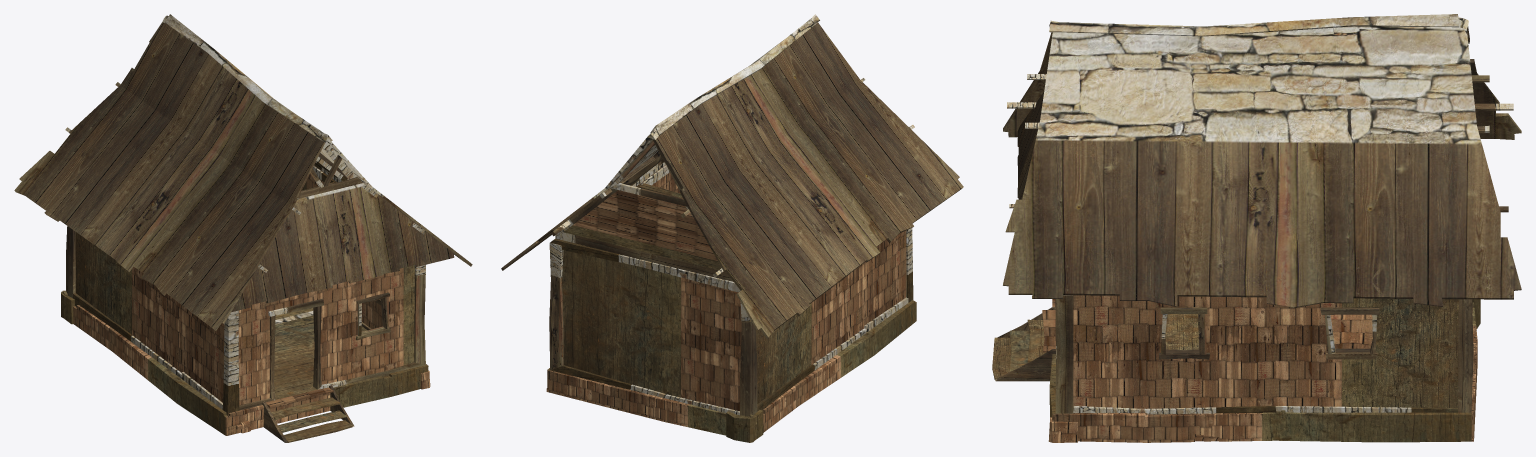
Rendered from cabana.obj.
The picture shows the model from 3 angles, left to right: view 1: azimuth 30°, elevation 25°; view 2: azimuth 150°, elevation 25°; view 3: azimuth 270°, elevation 25°; orthographic projection. The views are drawn at different scales.
Size of the model in its own units: 66.63 by 66.72 by 87.92.
